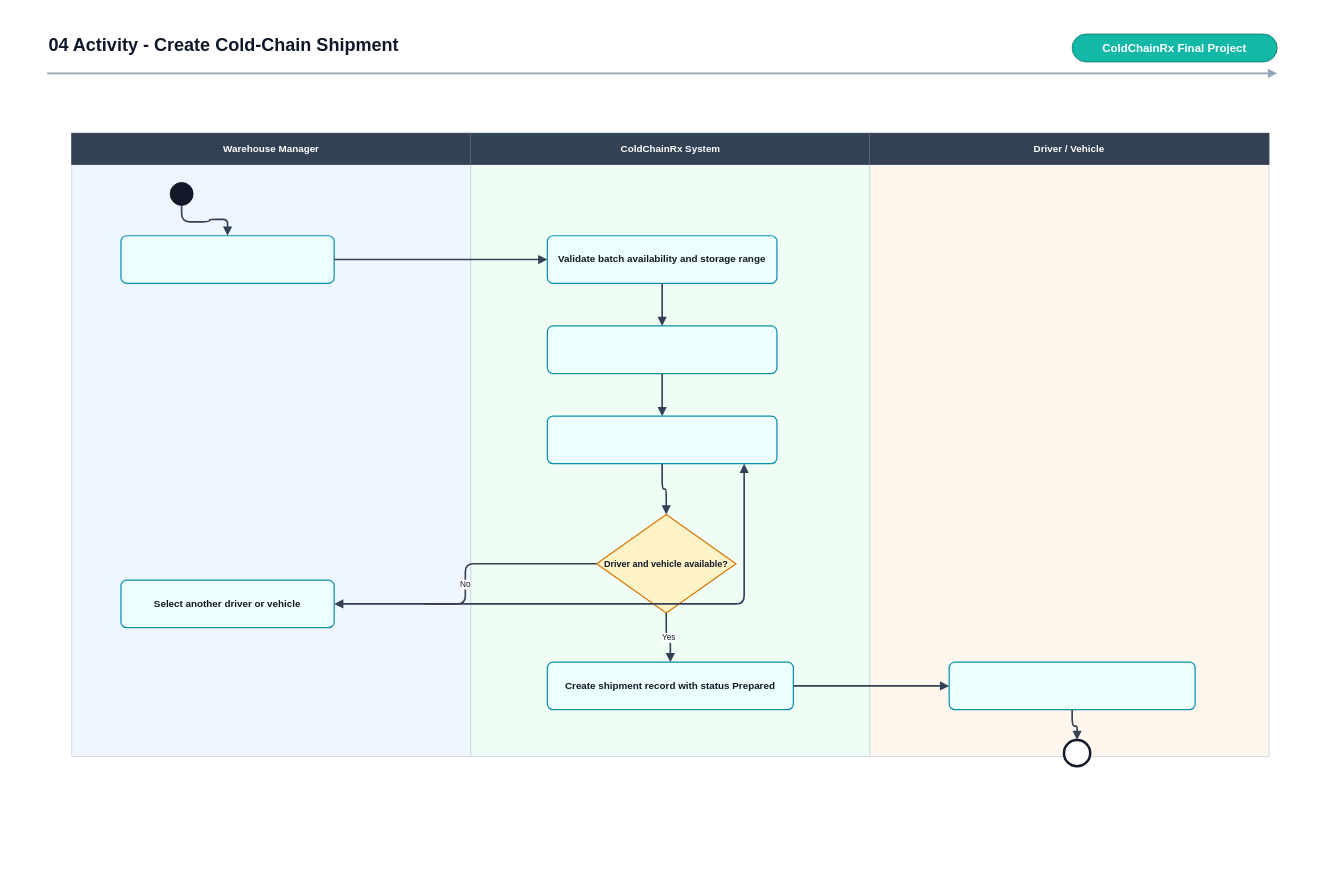
Some shapes in this 1340 by 889 pixel diagram are drawn without their labels. Here are the shapes that lost their labels. From the top down, the centre of each, then its label:
point (227, 259): Enter shipment details and select medicine batches
point (661, 349): Link cold box and IoT sensor
point (661, 439): Assign driver and vehicle
point (1071, 685): Receive shipment assignment notification
